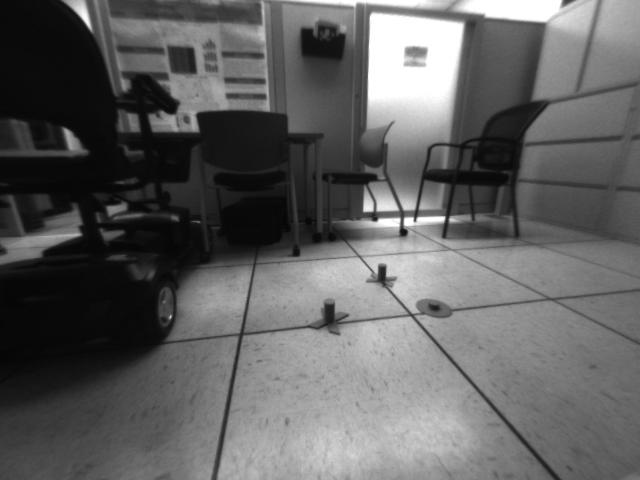X: (310, 298, 348, 335), (363, 261, 397, 289)
